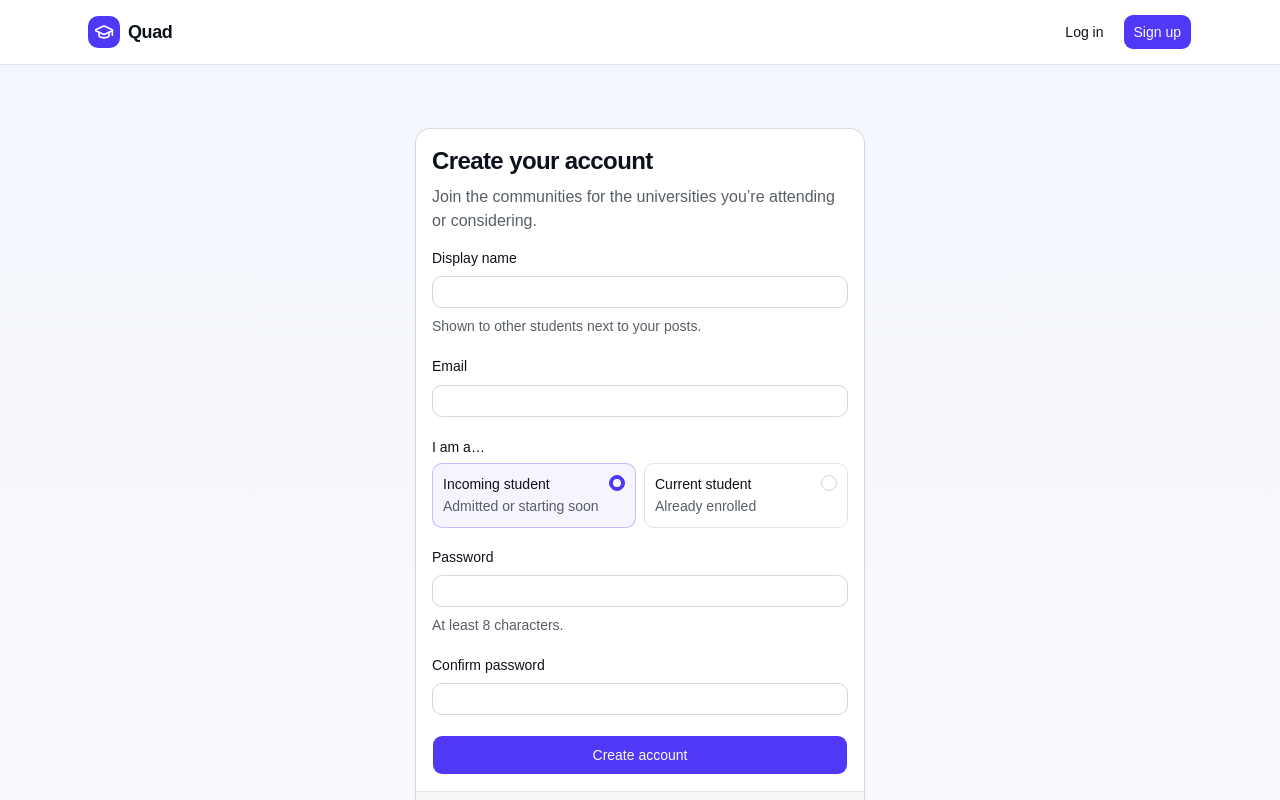
Scenario: SignUpPage › shows the check-your-email screen after a valid submission
Type "Alex Rivera" into the field labelled "Display name". click: (640,292)
box: [432, 276, 848, 308]
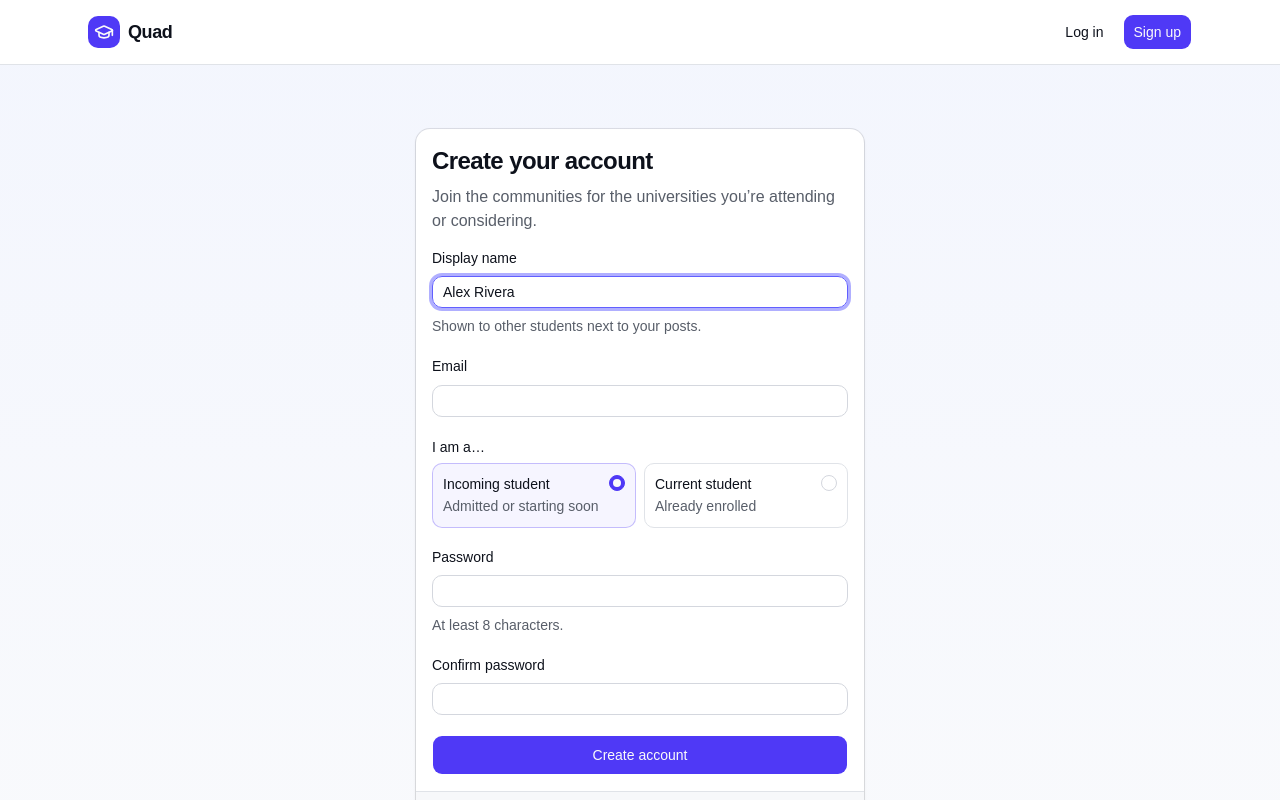
Type "alex@example.edu" into the field labelled "Email". click: (640,400)
box: [432, 384, 848, 416]
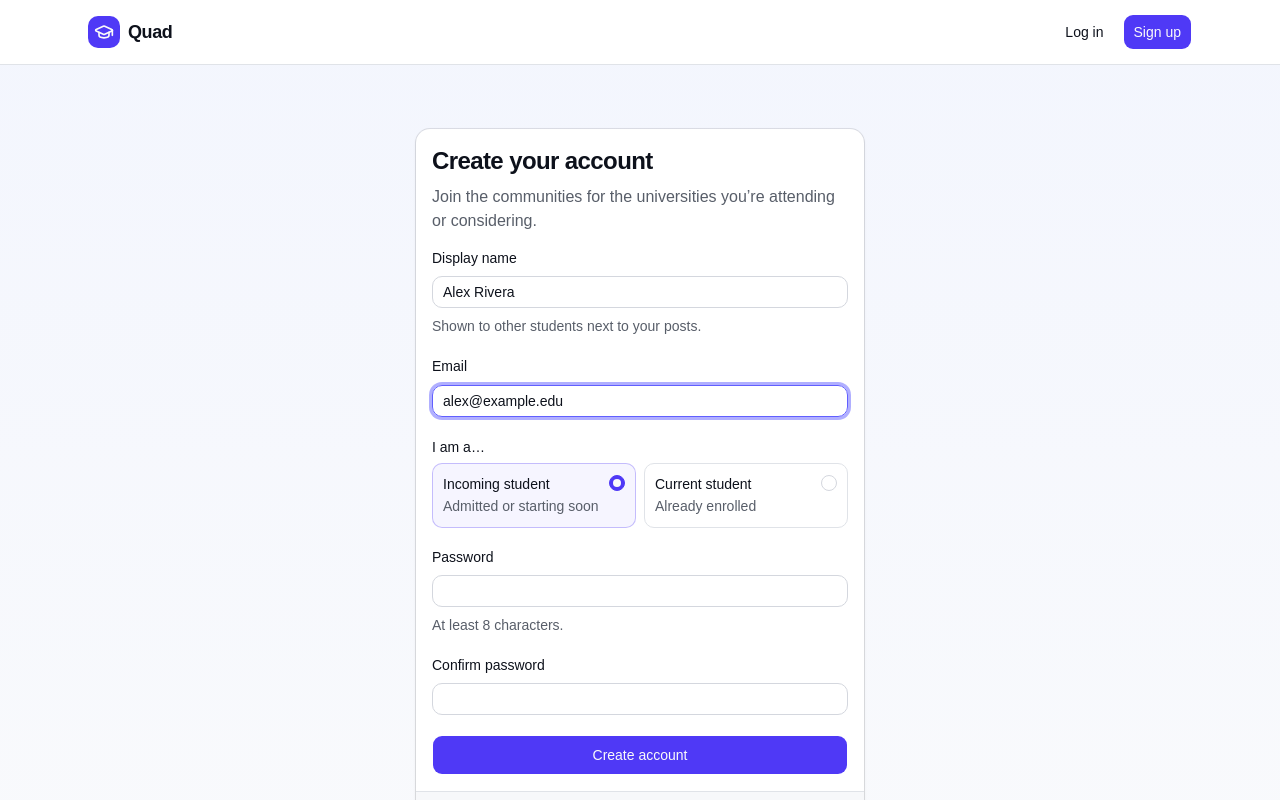
Click the radio button named "current student" next to "Current student". click: (829,482)
box: [821, 474, 837, 490]
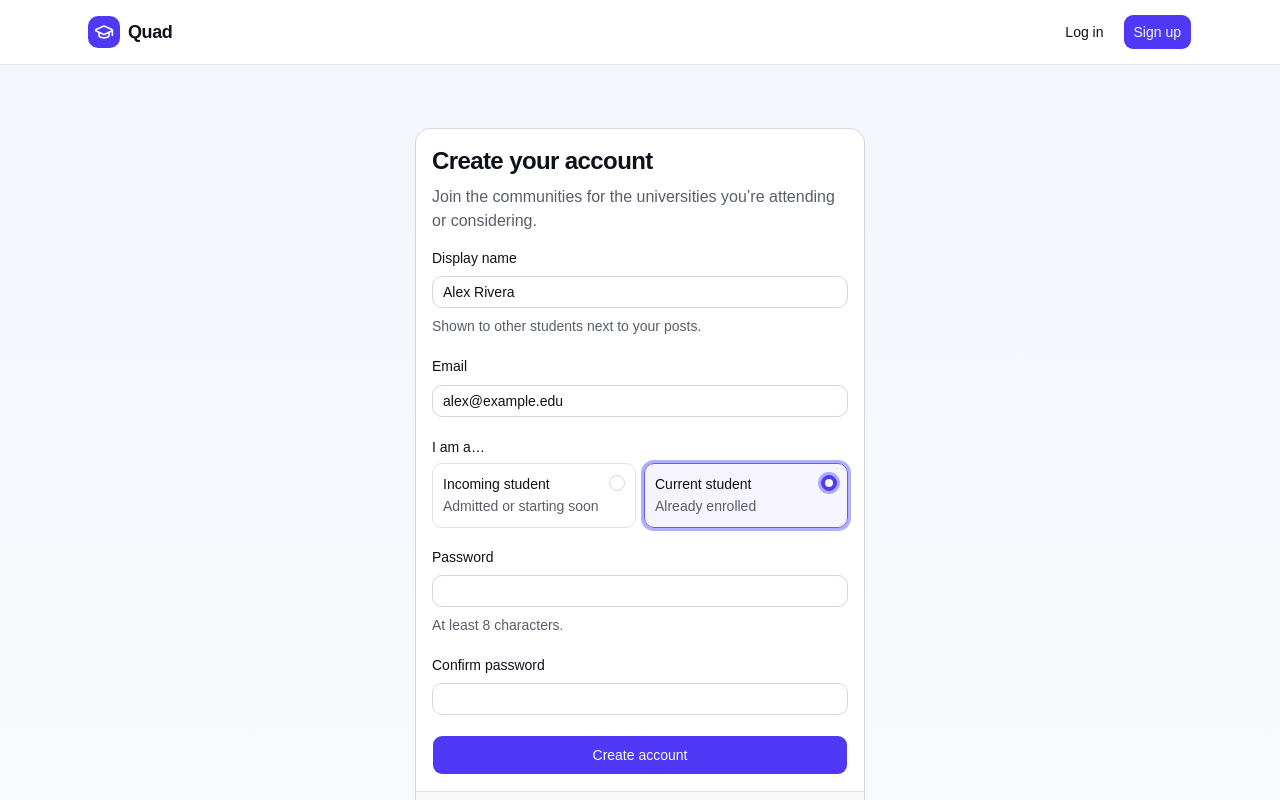
Type "correct-horse" into the password field labelled "Password". click: (640,591)
box: [432, 575, 848, 607]
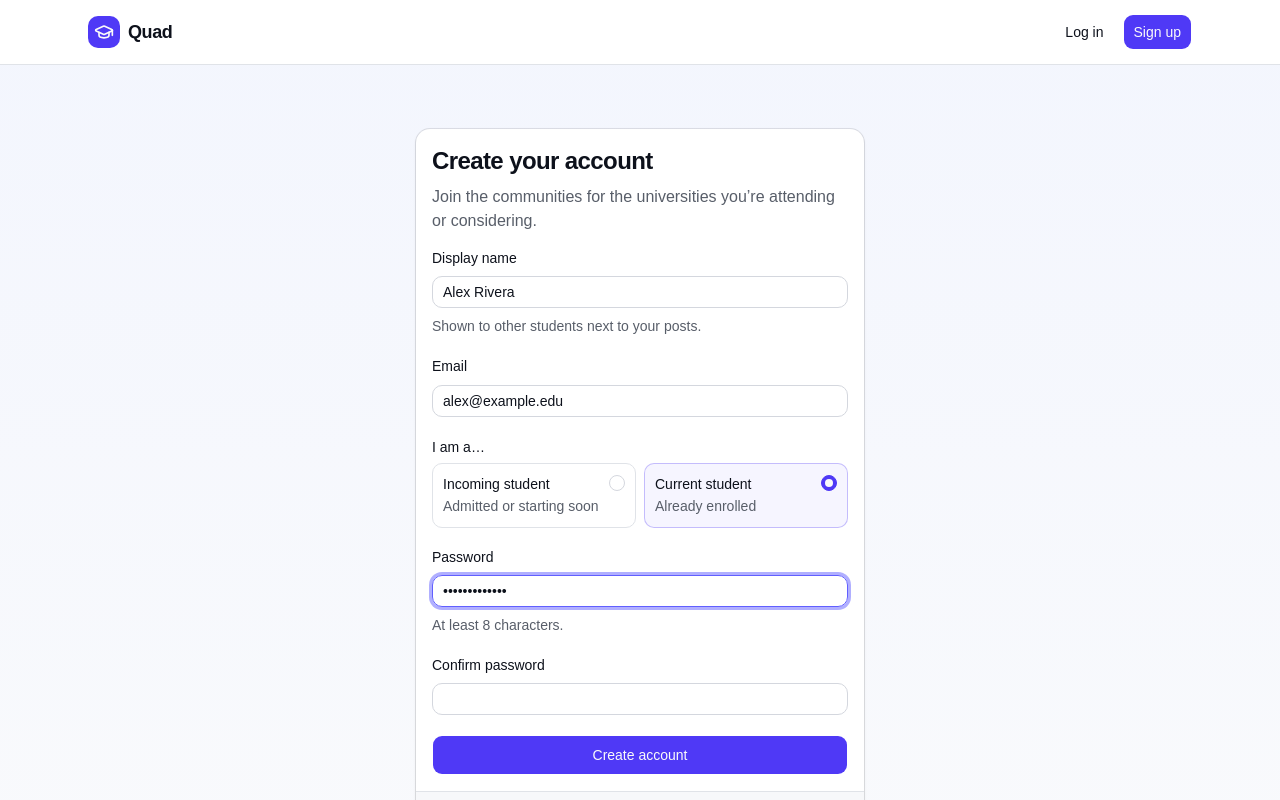
Type "correct-horse" into the password field labelled "Confirm password". click: (640,699)
box: [432, 683, 848, 715]
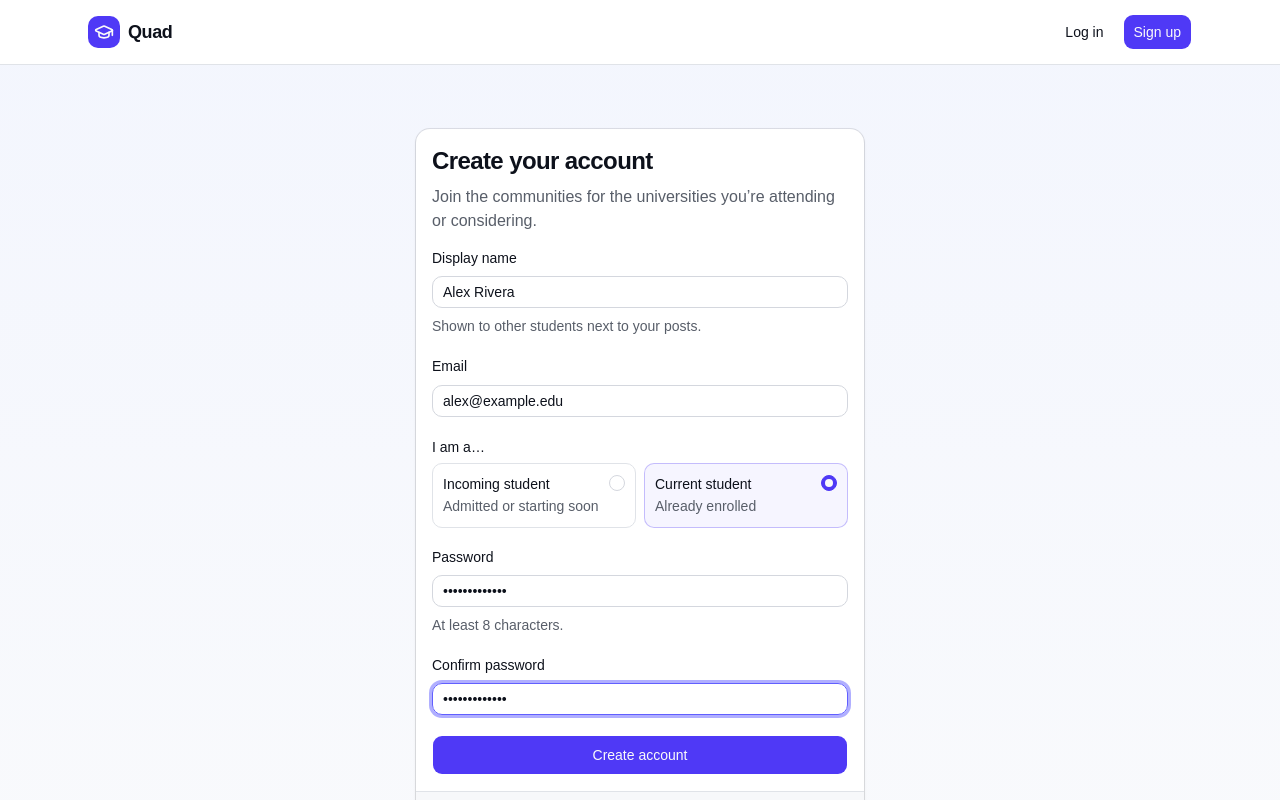
Click the button "Create account". click: (640,755)
box: [432, 735, 848, 775]
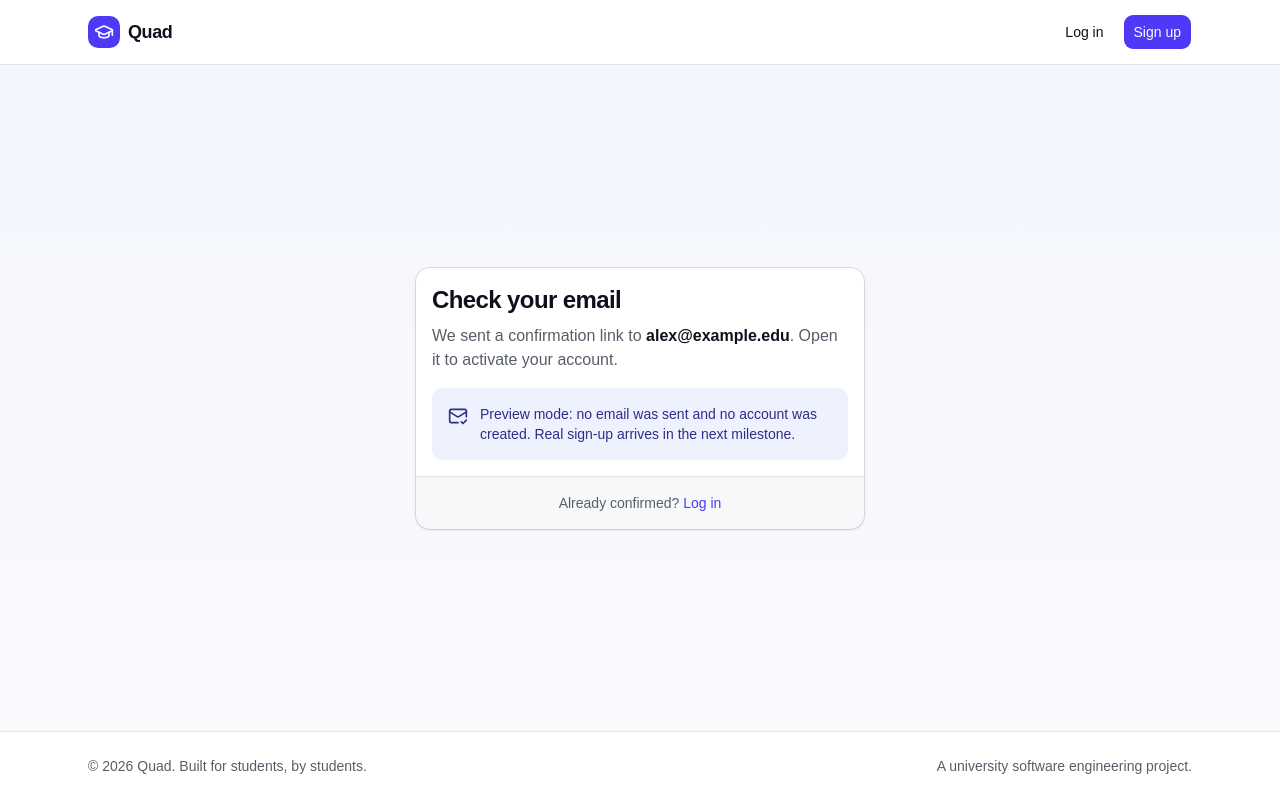
Expected: the heading "Check your email" is shown, [432, 286, 621, 312]
Expected: the text "alex@example.edu" is shown, [646, 326, 790, 344]
